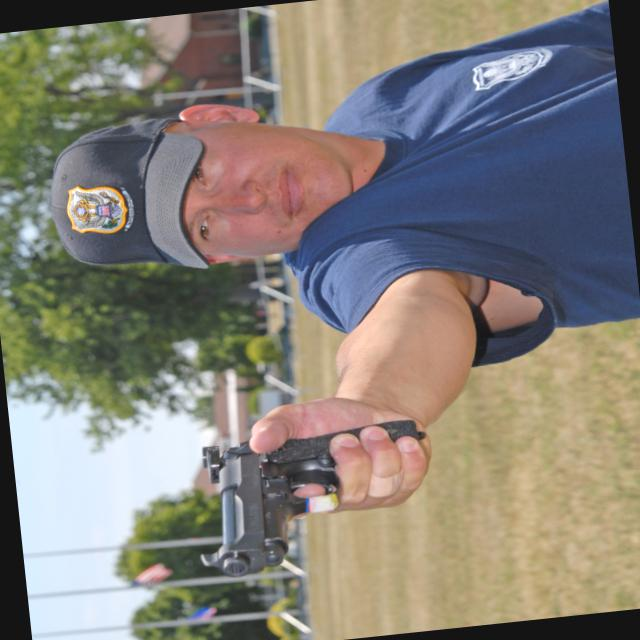handgun: (189, 414, 437, 581)
